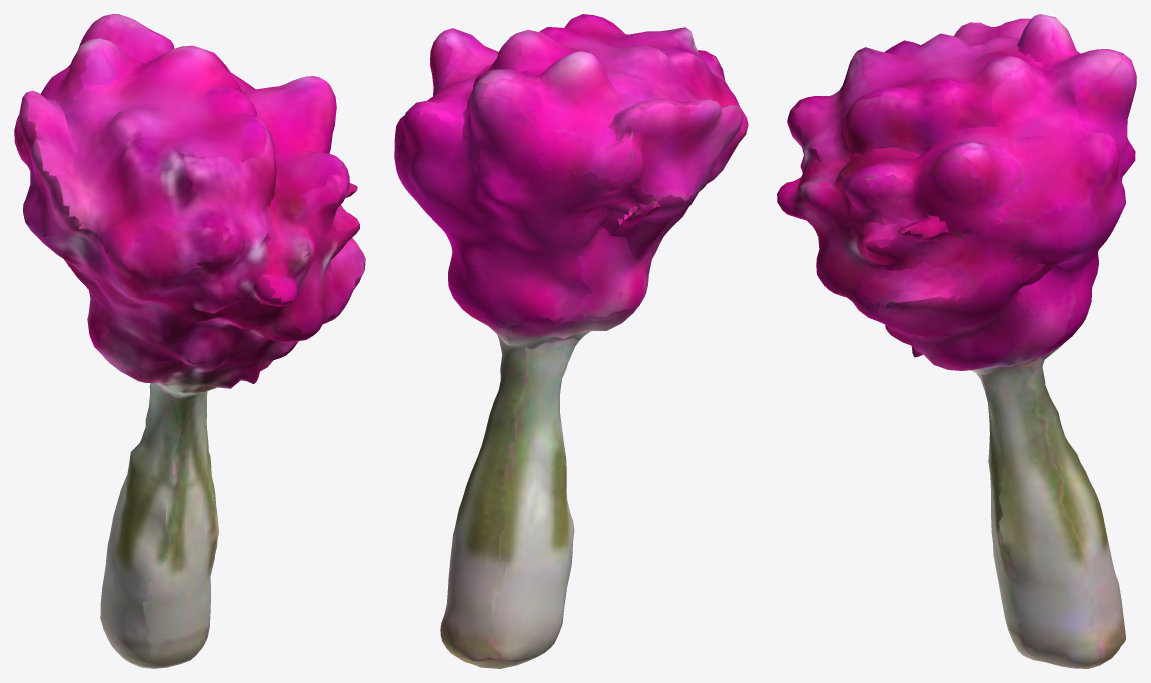
Rendered from 0_chair.glb.
The picture shows the model from 3 angles, left to right: view 1: azimuth 30°, elevation 25°; view 2: azimuth 150°, elevation 25°; view 3: azimuth 270°, elevation 25°; orthographic projection. The views are drawn at different scales.
Parts seen in each view (by area): view 1: 0_chair; view 2: 0_chair; view 3: 0_chair.
Part boxes in pixels (x1,y1,x2,y2): 0_chair: (14,14,365,668); 0_chair: (394,14,748,668); 0_chair: (777,14,1136,668).
Size of the model in its own units: 0.2148 by 0.4411 by 0.2351.
Materials: 1 (1 with a texture image).
